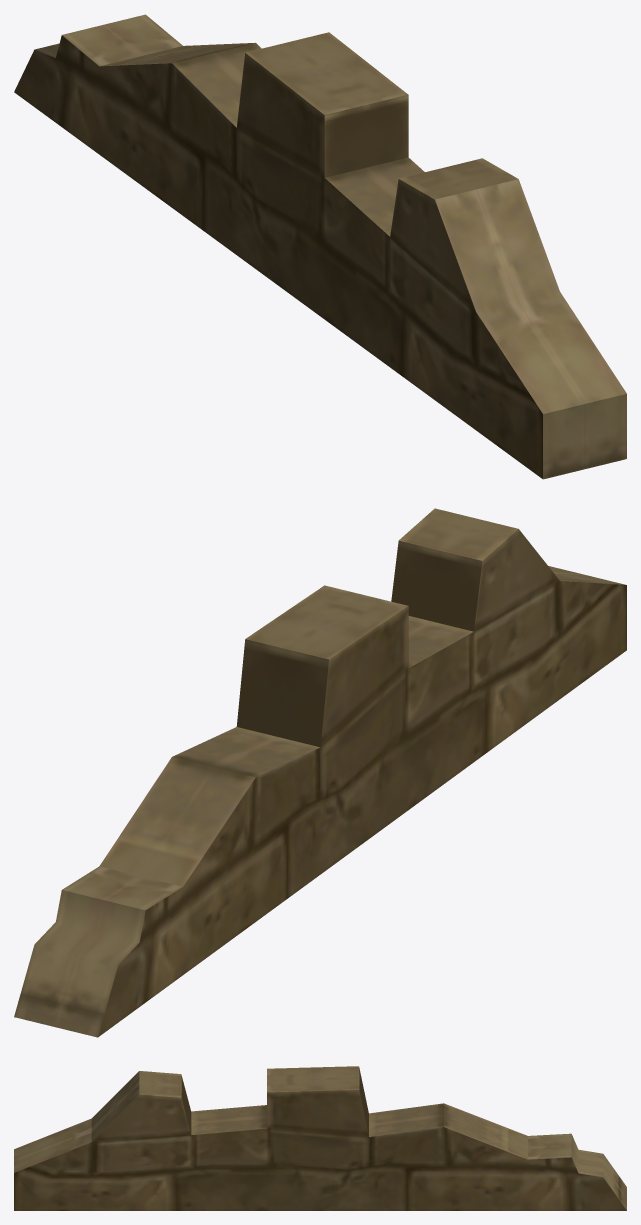
The model's file is Battle04_Cub_06.FBX.
The picture shows the model from 3 angles, top to bottom: view 1: azimuth 30°, elevation 25°; view 2: azimuth 150°, elevation 25°; view 3: azimuth 270°, elevation 25°; orthographic projection. The views are drawn at different scales.
Parts seen in each view (by area): view 1: Battle04_Cub_06; view 2: Battle04_Cub_06; view 3: Battle04_Cub_06.
Boxes of the visible parts, x1,y1,x2,y2 form: Battle04_Cub_06: (14, 14, 626, 479); Battle04_Cub_06: (14, 508, 626, 1037); Battle04_Cub_06: (14, 1066, 626, 1210).
Size of the model in its own units: 0.677 by 1.61 by 7.39.
